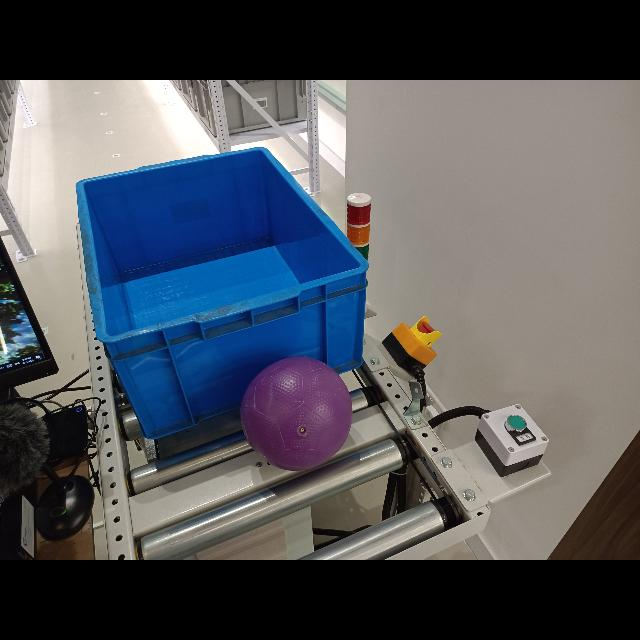P: (237, 351, 356, 469)
